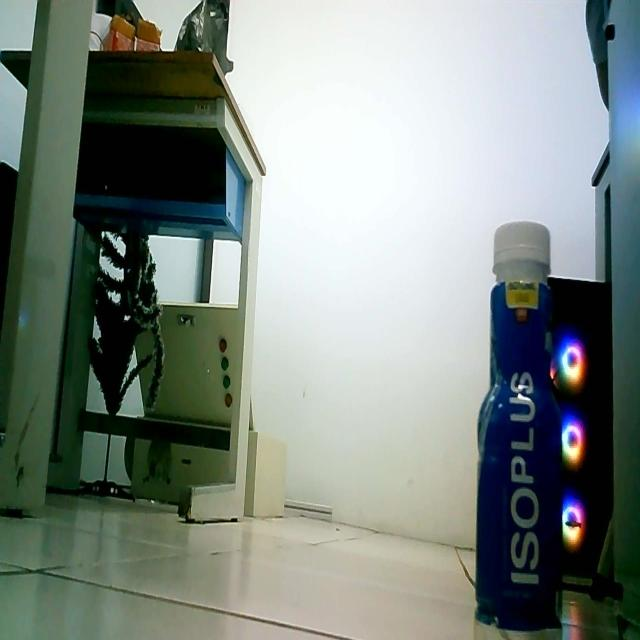botol: (469, 214, 578, 640)
